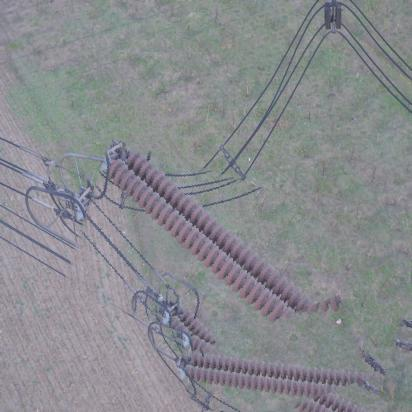insulator: (69, 163, 412, 372), (180, 310, 367, 412)
